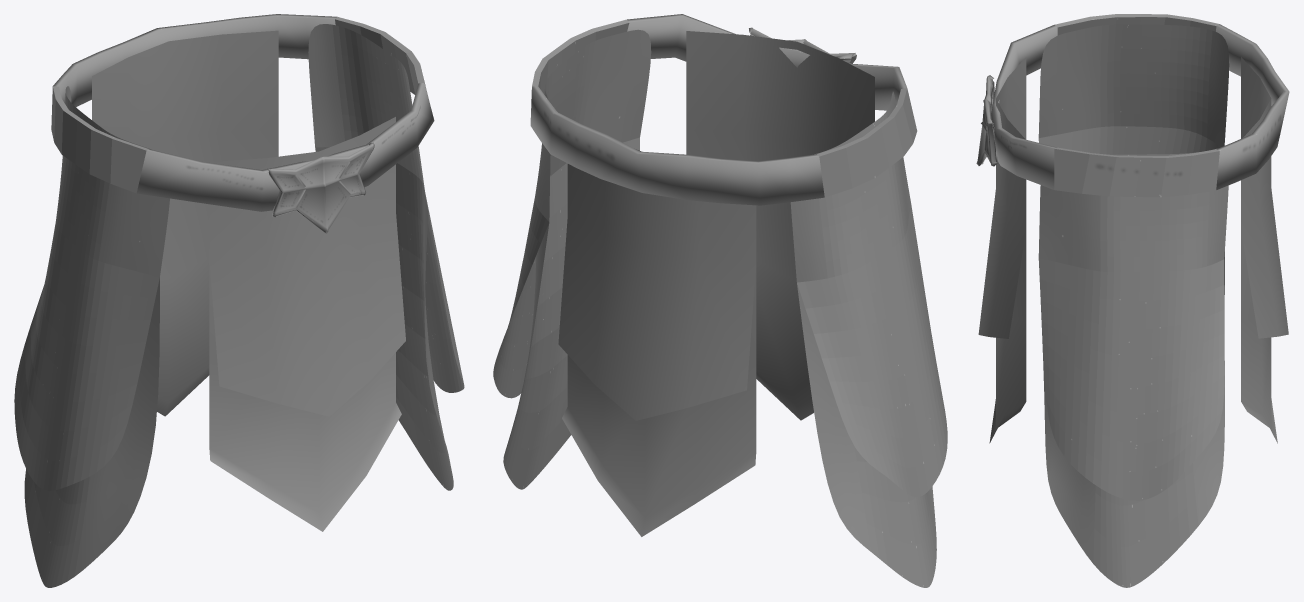
The model's file is waistplate.fbx.
3 renders of one model, left to right at view 1: azimuth 30°, elevation 25°; view 2: azimuth 150°, elevation 25°; view 3: azimuth 270°, elevation 25°, orthographic. The views are drawn at different scales.
Visible parts, largest first — view 1: Plane.007, Plane.001; view 2: Plane.007, Plane.001; view 3: Plane.007, Plane.001.
Part boxes in pixels (left/top/right/bottom): Plane.007: left=14, top=14, right=464, bottom=587; Plane.001: left=92, top=30, right=405, bottom=531; Plane.007: left=493, top=14, right=947, bottom=587; Plane.001: left=558, top=31, right=874, bottom=536; Plane.007: left=976, top=14, right=1289, bottom=587; Plane.001: left=978, top=57, right=1288, bottom=443.
Bounding box in the file's own units: 244 × 262 × 180.
1 material, 1 textured.
